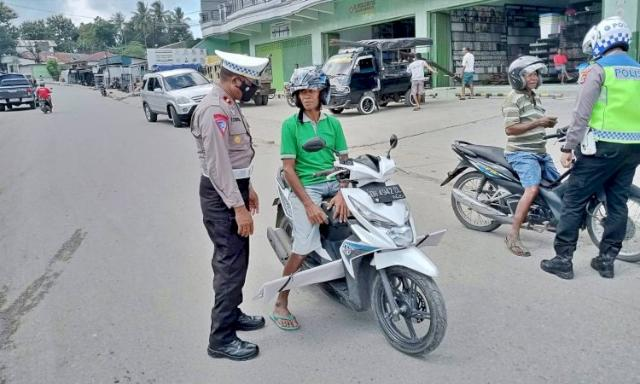helm: (581, 15, 633, 59), (291, 66, 334, 112), (508, 57, 548, 96)
motor: (268, 133, 455, 358), (441, 118, 640, 270)
